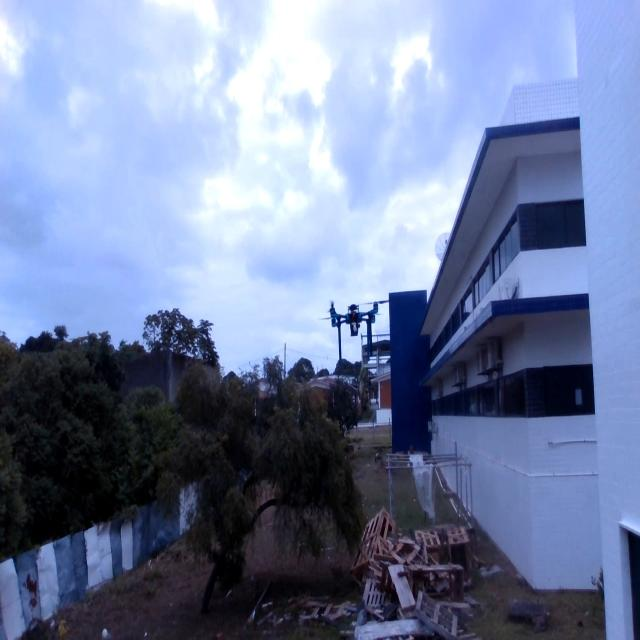-uav-: (315, 295, 399, 370)
